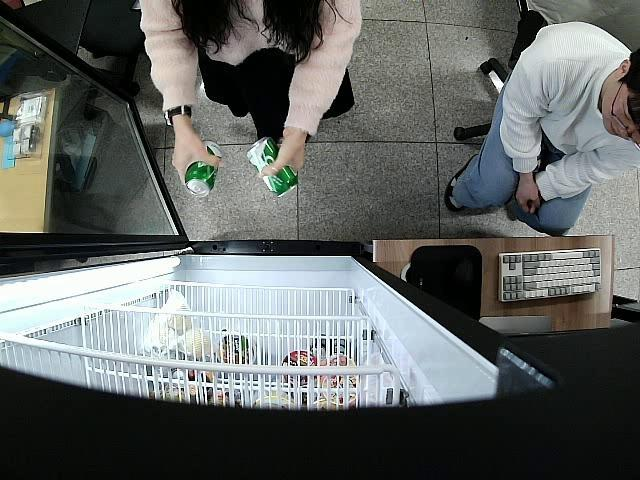12_chilsungCider: (246, 137, 298, 200), (185, 139, 224, 198)
